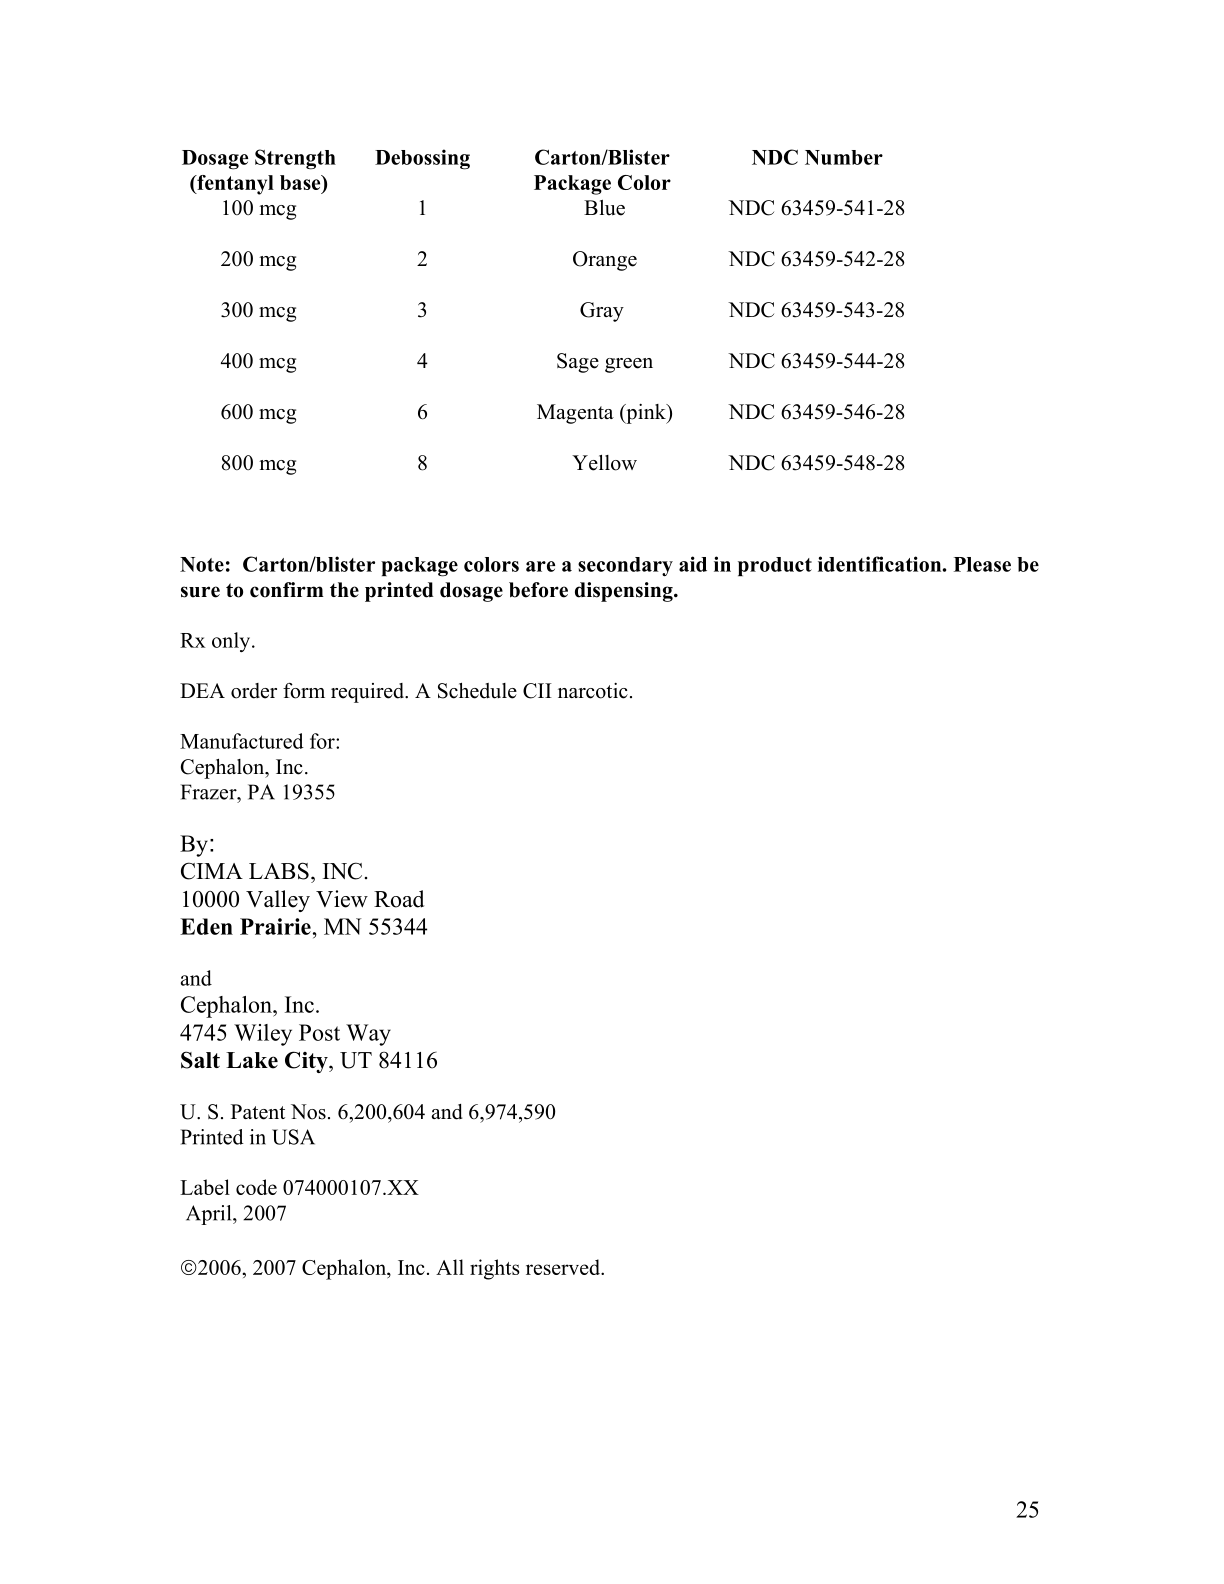nolines: (180, 145, 906, 473)
